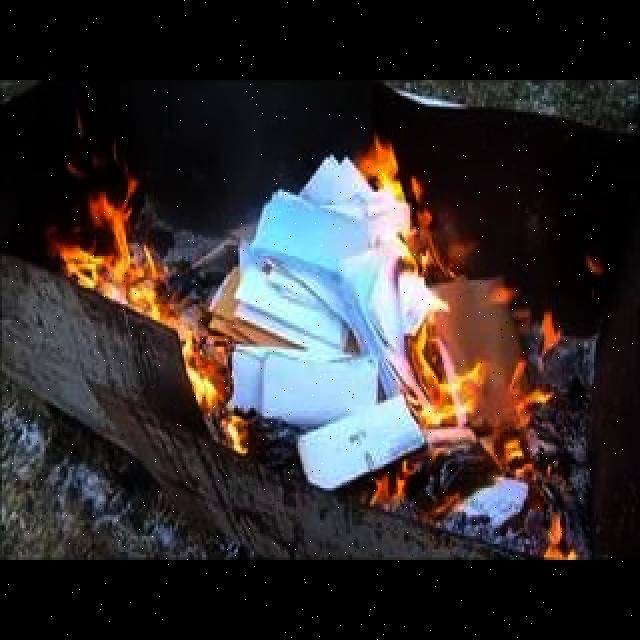fire: (66, 202, 195, 351), (404, 302, 491, 424), (192, 363, 251, 458), (363, 127, 417, 216), (374, 466, 453, 506), (502, 438, 541, 482), (550, 515, 585, 564), (510, 362, 540, 402)
